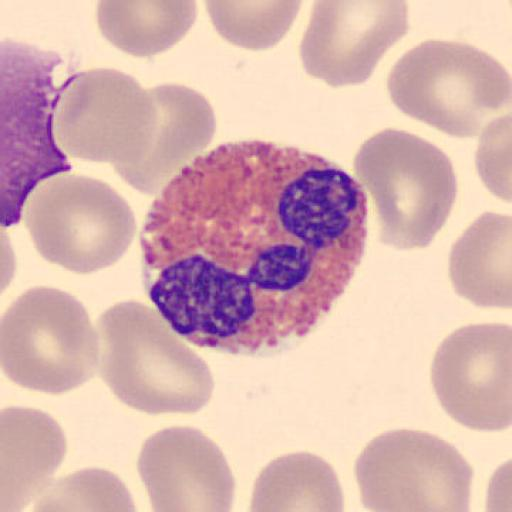RBC: (51, 67, 216, 194), (97, 298, 216, 418), (351, 126, 460, 253), (384, 38, 512, 140), (109, 80, 218, 196), (24, 173, 138, 277), (2, 285, 102, 396), (352, 426, 476, 512), (53, 66, 157, 165), (300, 0, 410, 90), (428, 320, 512, 434), (136, 423, 238, 512), (2, 404, 68, 511), (94, 0, 200, 61), (246, 448, 346, 512), (448, 210, 512, 310), (20, 465, 138, 512), (202, 0, 306, 52), (473, 109, 512, 205), (483, 454, 512, 512), (0, 221, 18, 297)
WBC: (138, 138, 370, 357), (0, 35, 73, 232)
